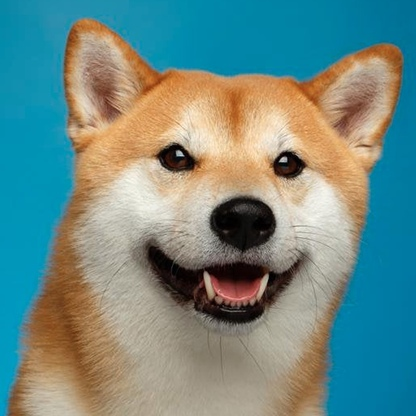shiba: (1, 14, 405, 414)
